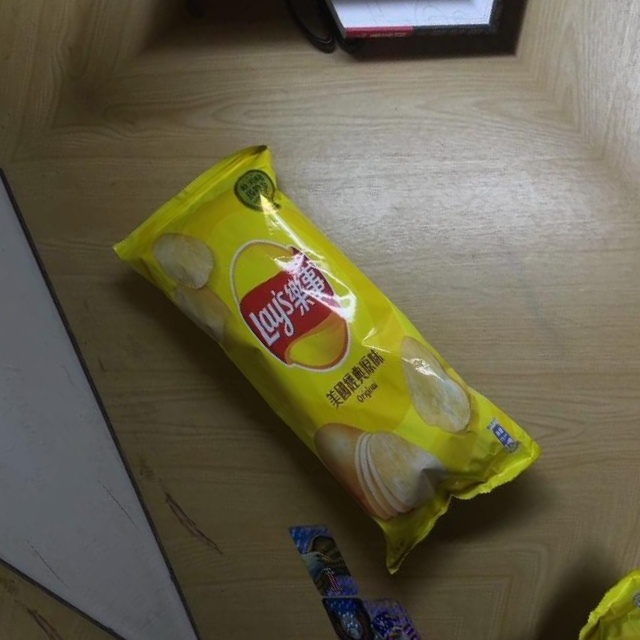Lay-s-original: (104, 111, 547, 584)
